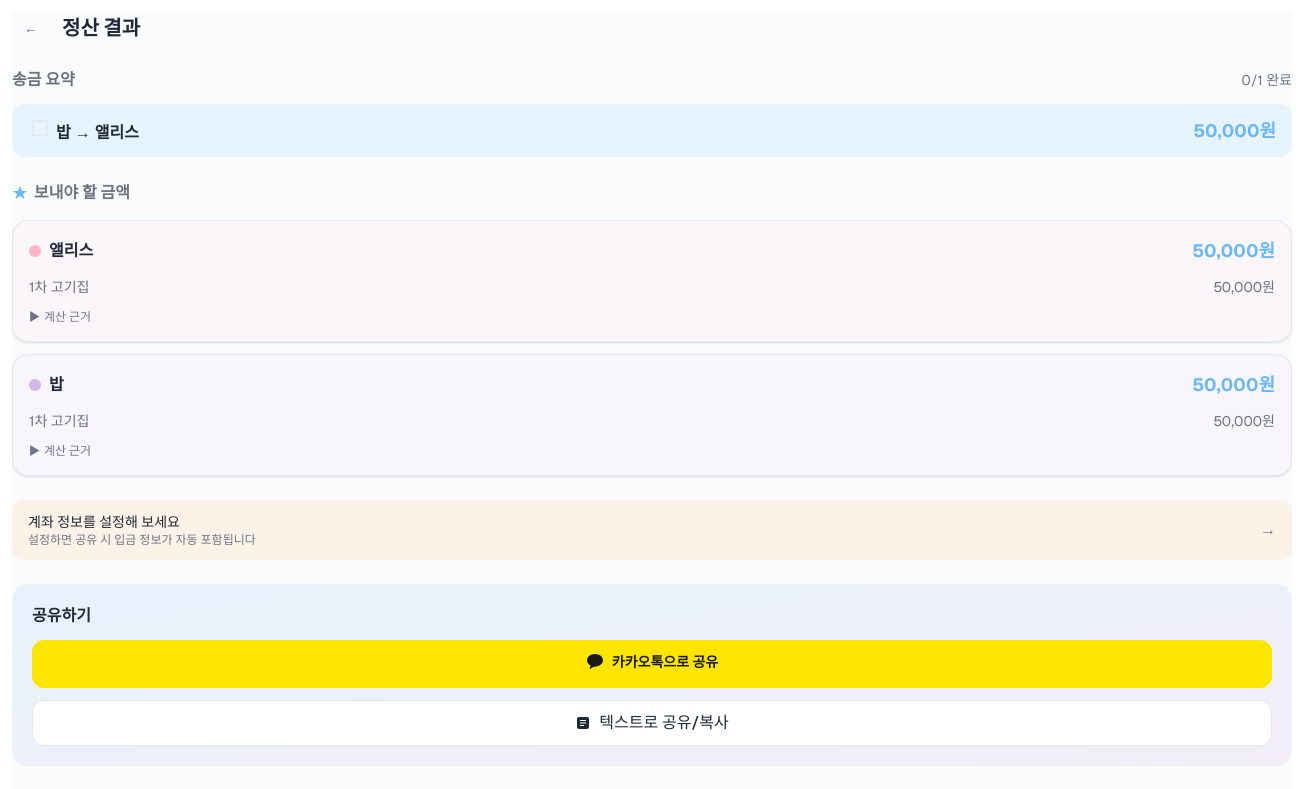
Test: SettlementPage - 송금 요약 › 송금 항목 클릭 시 완료 토글
Click the button with aria-label "송금 완료 표시" at (117, 132), box [12, 104, 1292, 157]
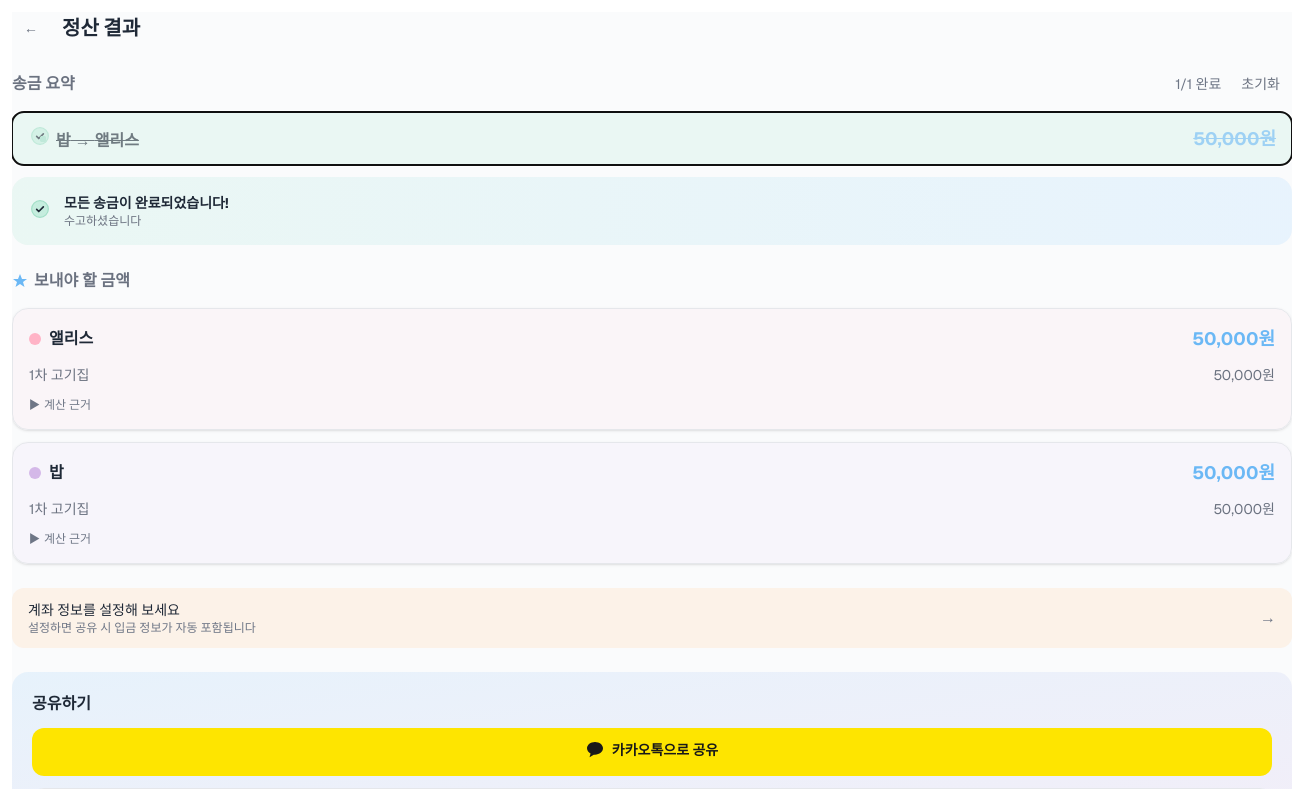
Now the text "1/1 완료" is shown, box [1175, 74, 1221, 94]
